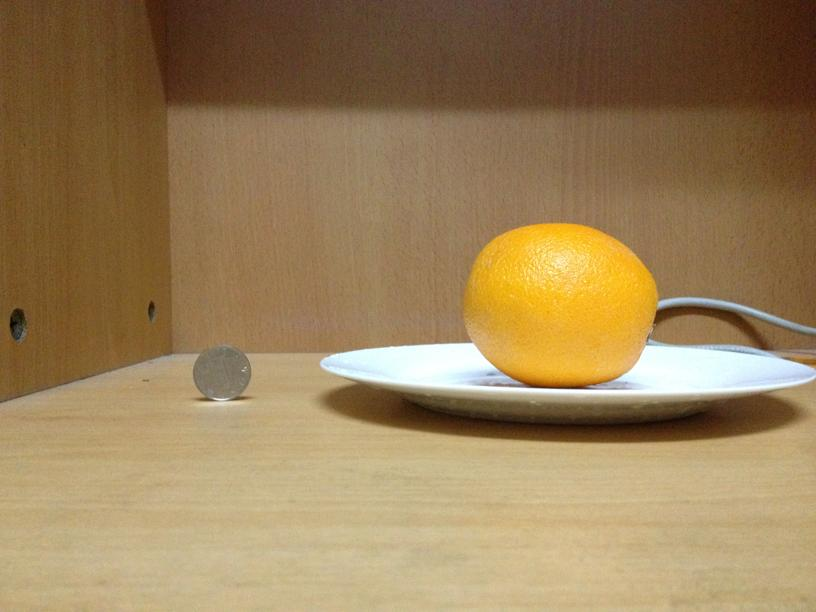coin: (190, 344, 252, 403)
orange: (462, 225, 658, 386)
